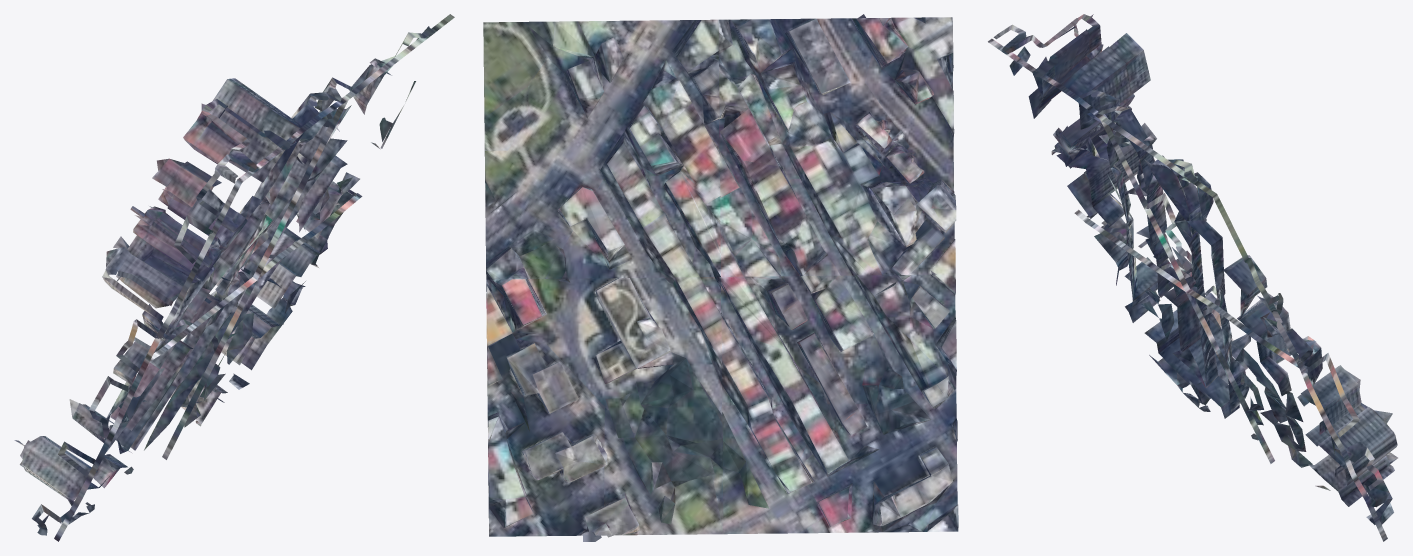
3 renders of one model, left to right at view 1: azimuth 30°, elevation 25°; view 2: azimuth 150°, elevation 25°; view 3: azimuth 270°, elevation 25°, orthographic. The views are drawn at different scales.
Bounding box in the file's own units: 317 × 301 × 264.
1 material, 1 textured.
